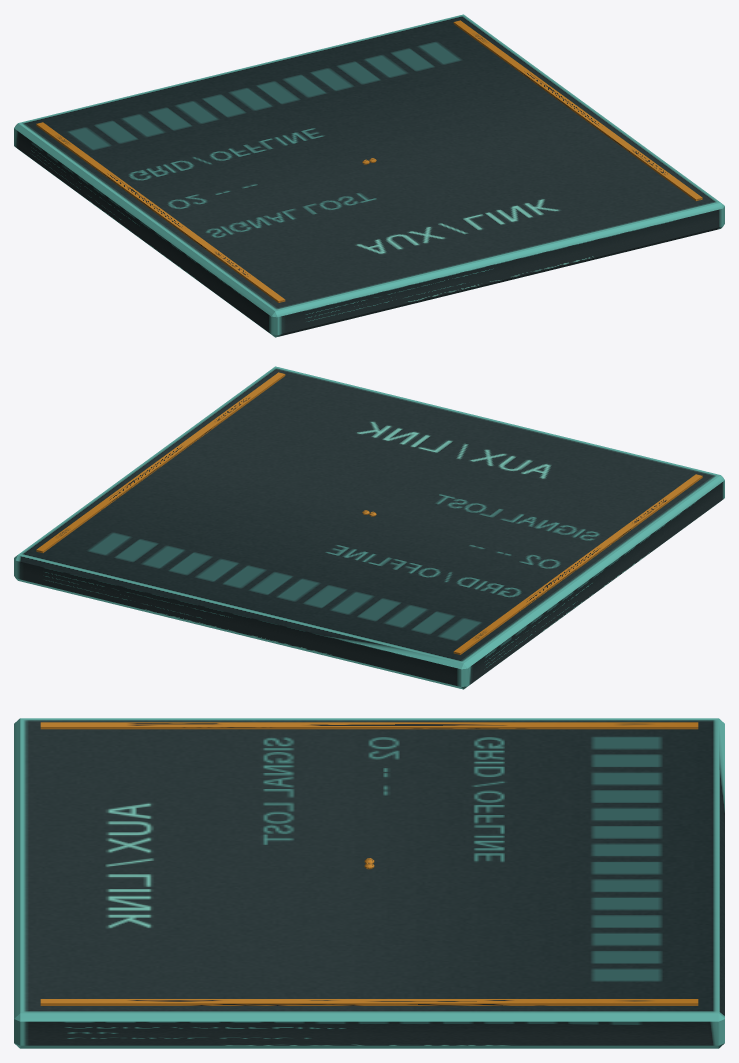
Rendered from roof_4m_LOD0.obj.
The picture shows the model from 3 angles, top to bottom: view 1: azimuth 30°, elevation 25°; view 2: azimuth 150°, elevation 25°; view 3: azimuth 270°, elevation 25°; orthographic projection. The views are drawn at different scales.
Parts seen in each view (by area): view 1: L02_roof_4m_LOD0; view 2: L02_roof_4m_LOD0; view 3: L02_roof_4m_LOD0.
Part boxes in pixels (x1,y1,x2,y2): L02_roof_4m_LOD0: (14, 14, 724, 337); L02_roof_4m_LOD0: (14, 366, 724, 689); L02_roof_4m_LOD0: (14, 718, 724, 1048).
Bounding box in the file's own units: 4 × 0.247 × 4.
Materials: 1 (1 with a texture image).
